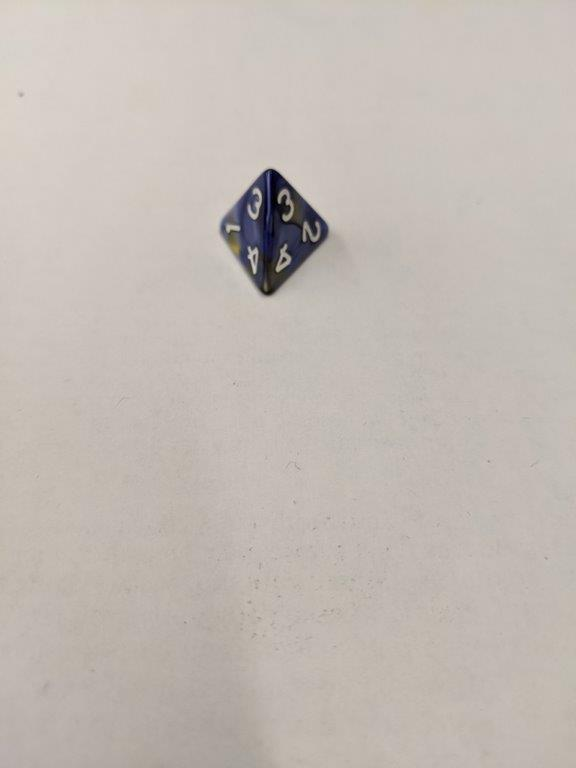d4-3: (214, 166, 331, 297)
